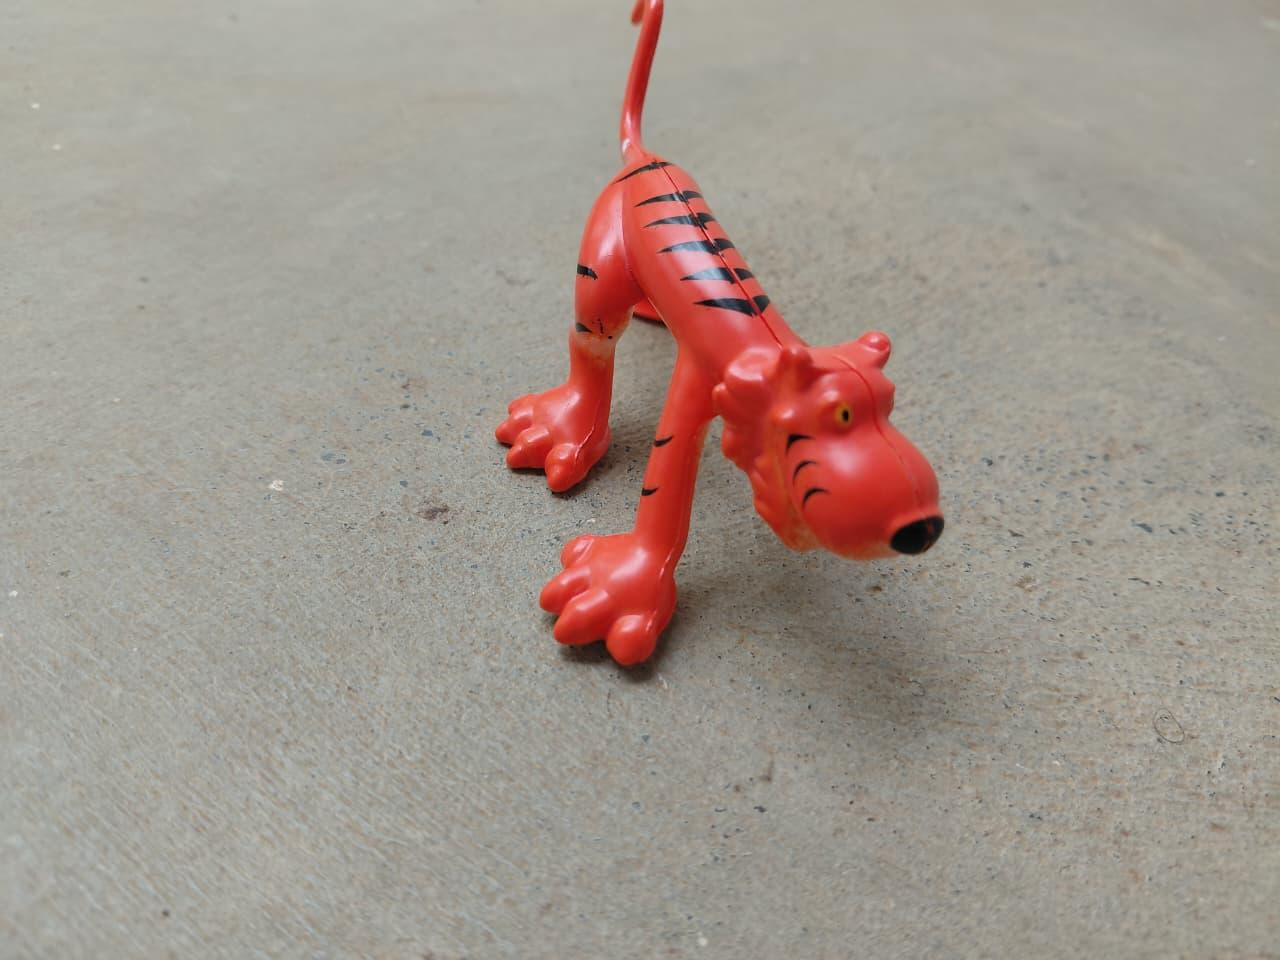tiger: (480, 4, 956, 673)
